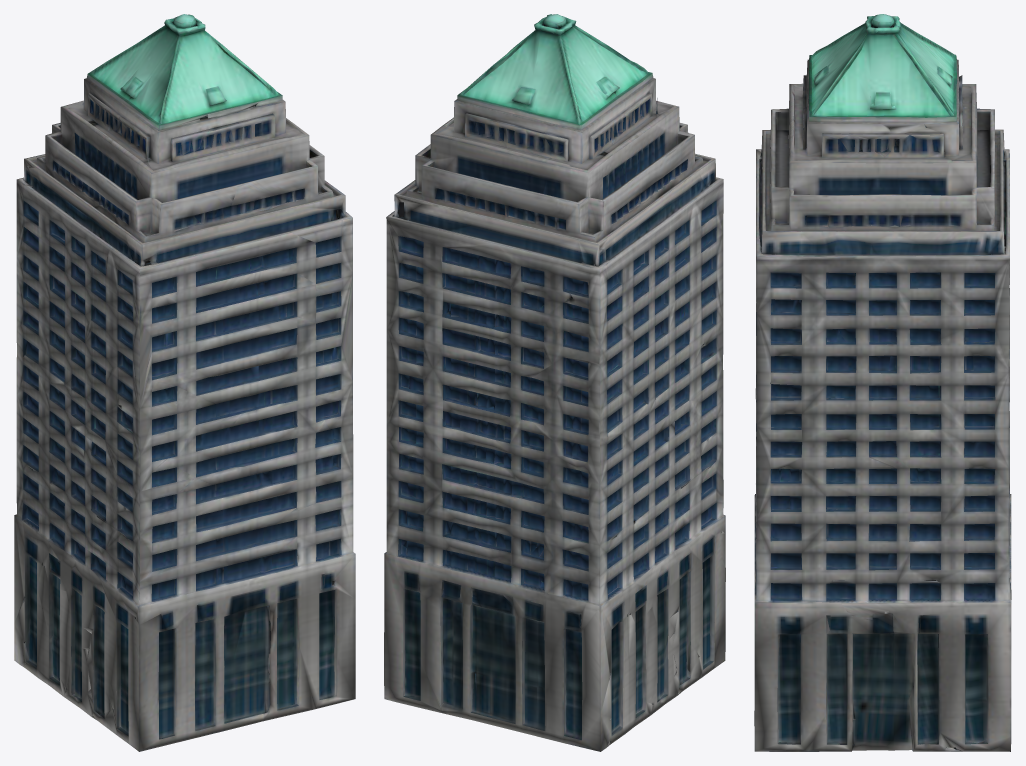
Rendered from cbot_annex.glb.
3 views of the same model, side by side, from view 1: azimuth 30°, elevation 25°; view 2: azimuth 150°, elevation 25°; view 3: azimuth 270°, elevation 25° (orthographic). The views are drawn at different scales.
Parts seen in each view (by area): view 1: cbot_annex; view 2: cbot_annex; view 3: cbot_annex.
Boxes of the visible parts, box(x1,y1,x2,y2) form: cbot_annex: box(14, 14, 355, 751); cbot_annex: box(384, 14, 725, 751); cbot_annex: box(754, 14, 1011, 751).
Bounding box in the file's own units: 34.59 × 101 × 34.46.
Materials: 1 (1 with a texture image).
